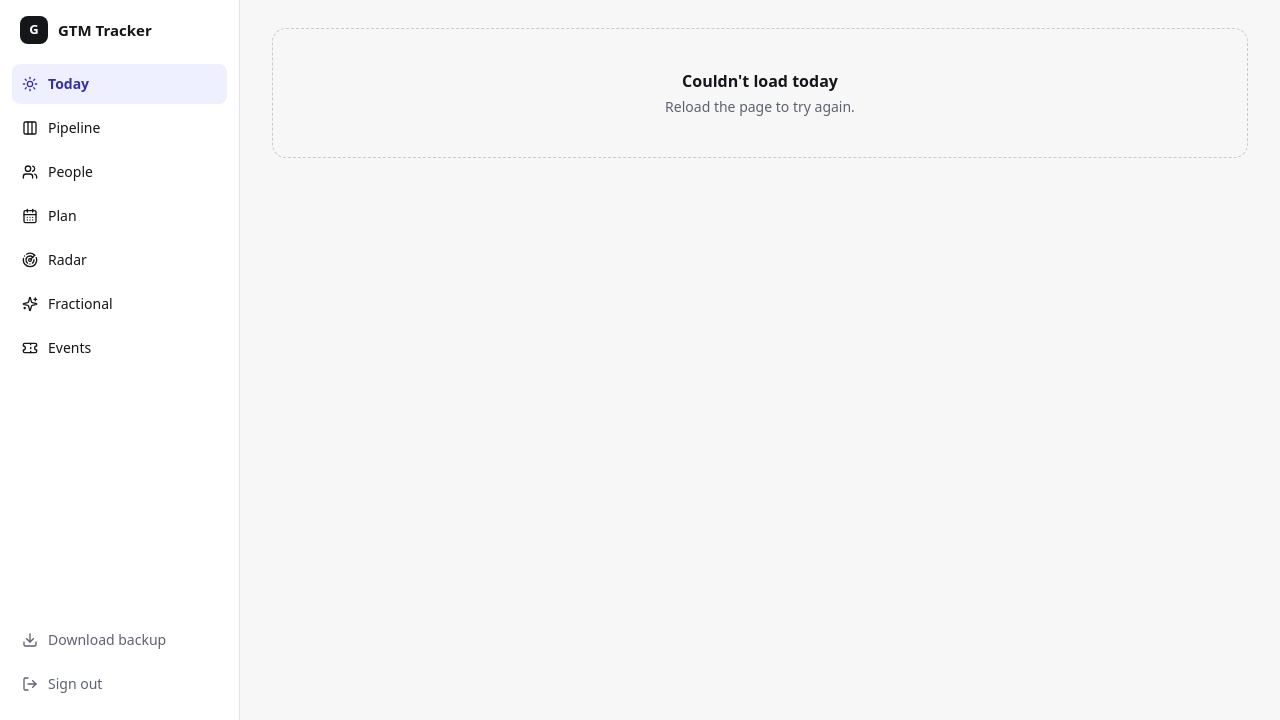
Test: Download backup › shows the sign-in page when the session has lapsed, instead of saving an error
Click the button "Download backup" at (120, 640), box [12,620,227,660]
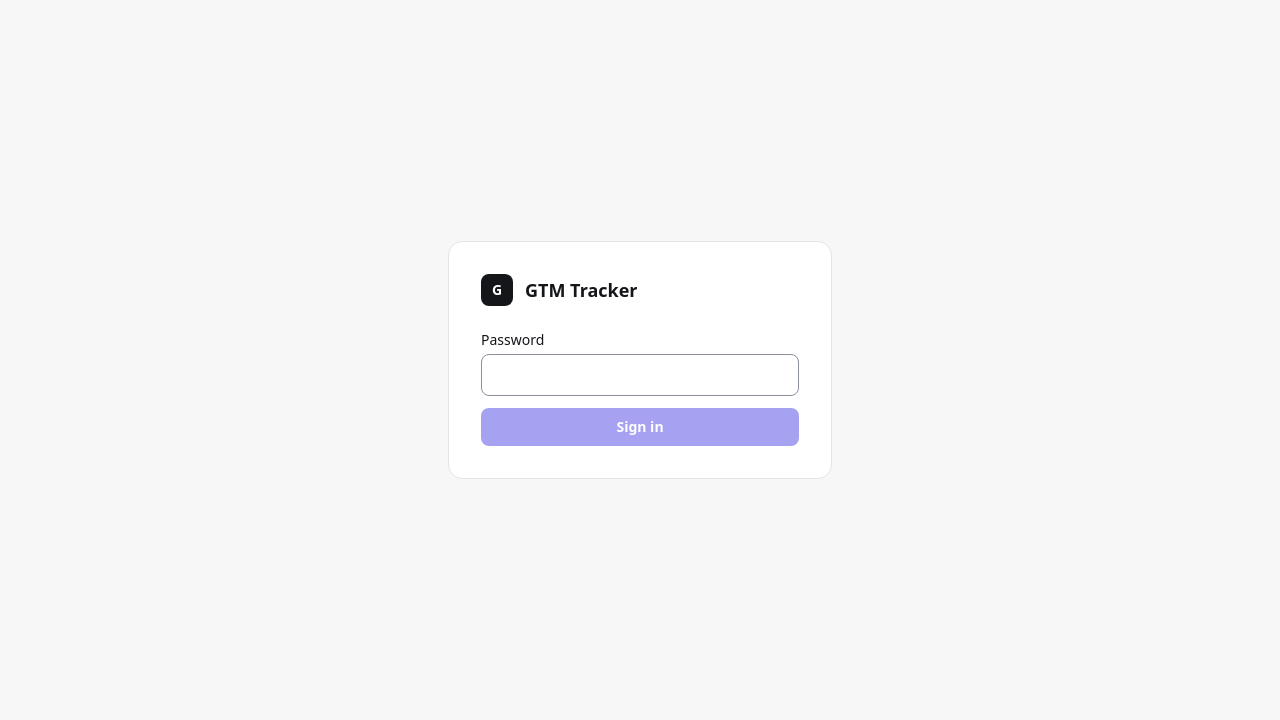
Result: the button "Sign in" is shown at [481,408,799,446]
